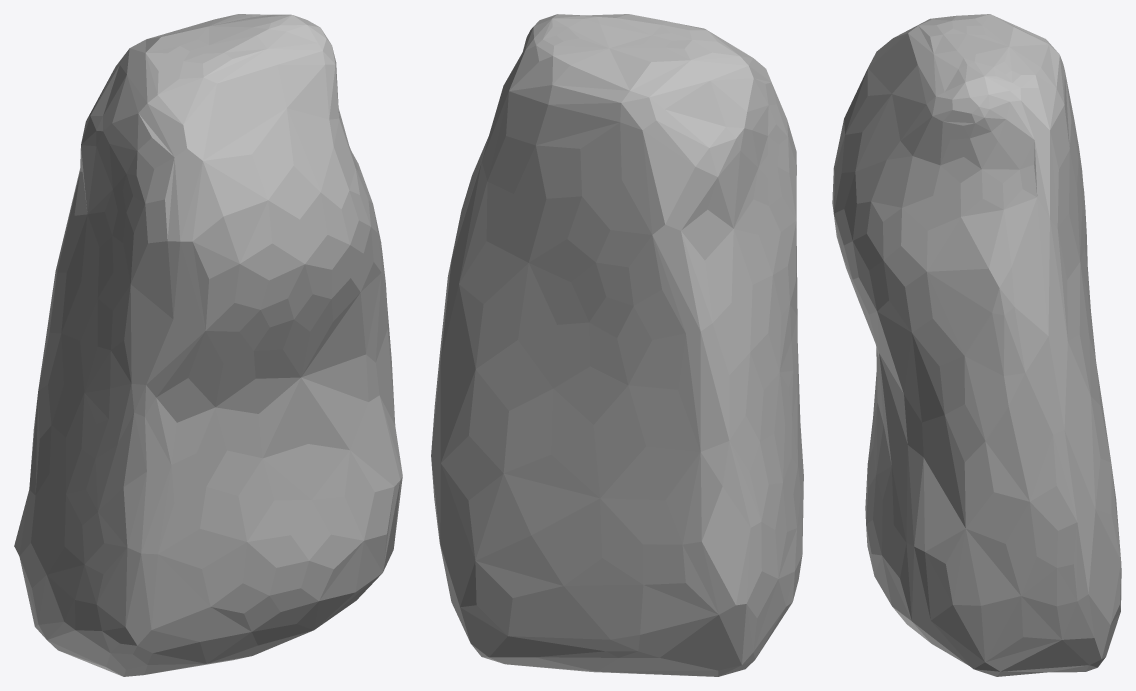
The model's file is Rock_030.glb.
The picture shows the model from 3 angles, left to right: view 1: azimuth 30°, elevation 25°; view 2: azimuth 150°, elevation 25°; view 3: azimuth 270°, elevation 25°; orthographic projection. The views are drawn at different scales.
Parts seen in each view (by area): view 1: Rock_030; view 2: Rock_030; view 3: Rock_030.
Part boxes in pixels (left/top/right/bottom): Rock_030: left=14, top=14, right=402, bottom=676; Rock_030: left=431, top=14, right=803, bottom=676; Rock_030: left=832, top=14, right=1121, bottom=676.
Size of the model in its own units: 3.01 by 5.37 by 2.36.
1 material, 1 textured.
